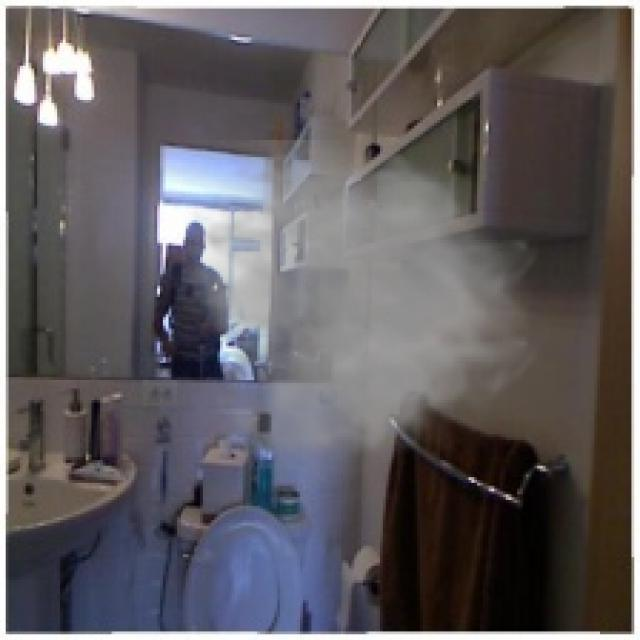Smoke: (174, 140, 543, 489)
